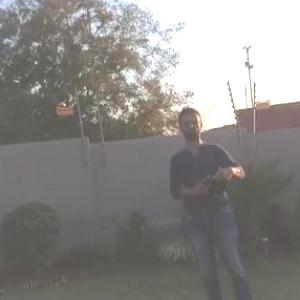follow: (165, 100, 259, 299)
